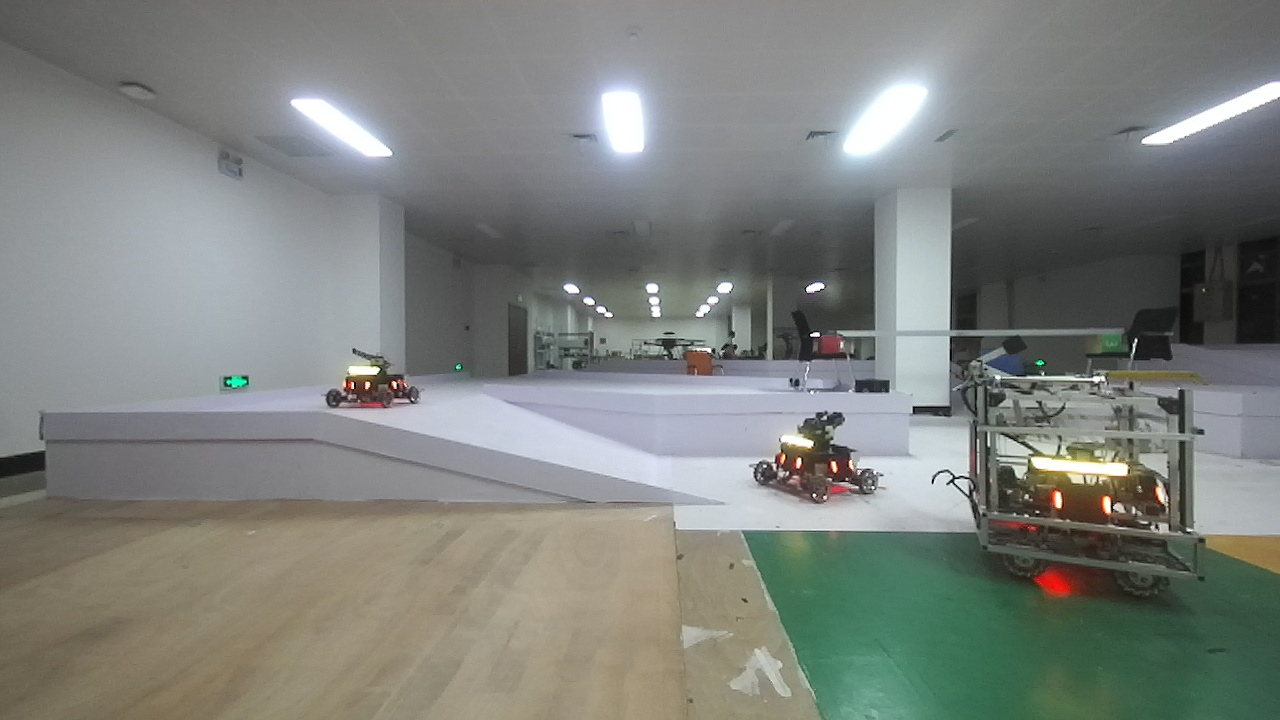car: (930, 346, 1220, 622), (738, 399, 903, 516), (315, 346, 432, 431)
